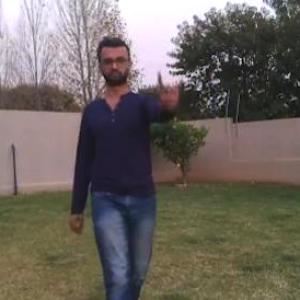takeoff-hand: (151, 66, 186, 106)
